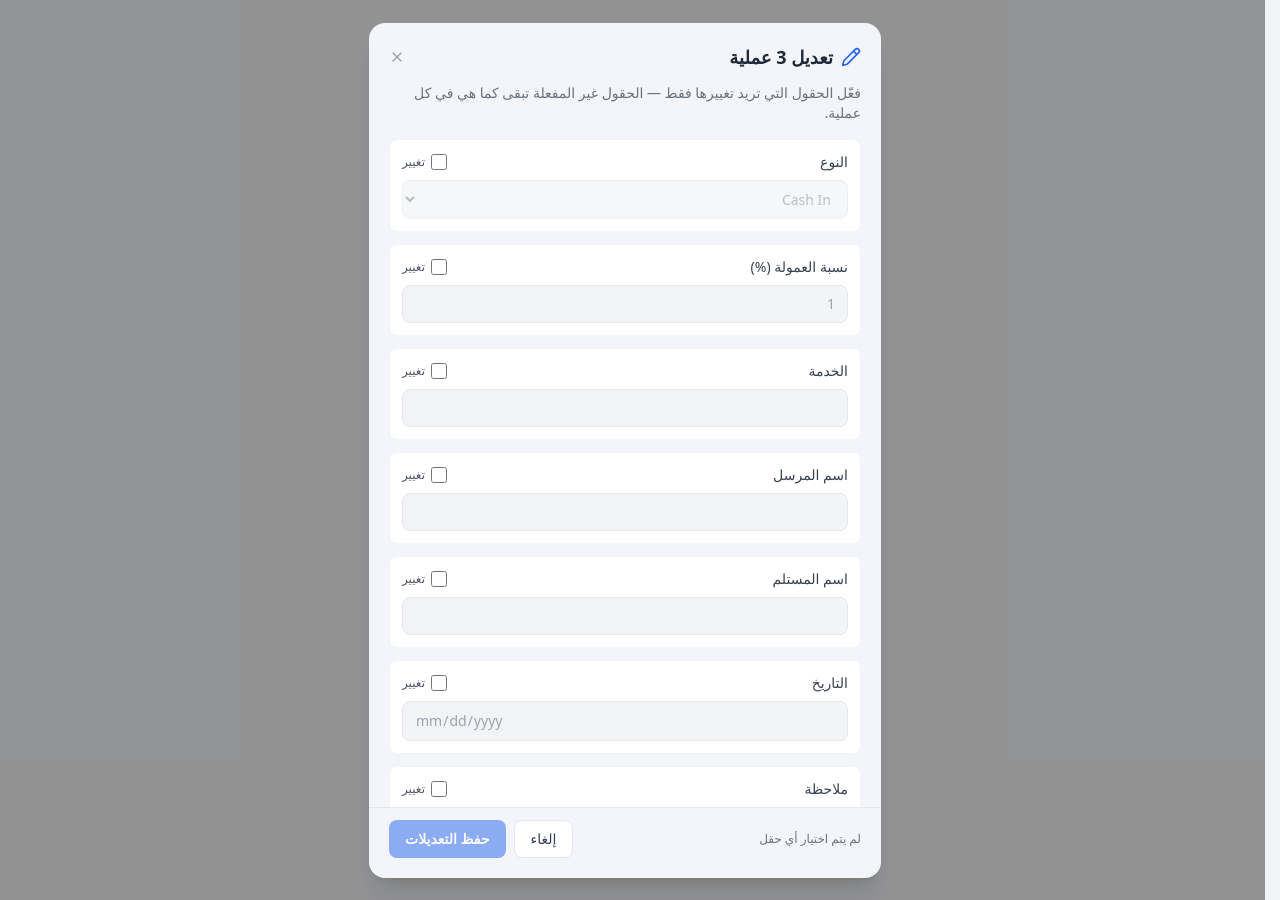
Scenario: BulkEditModal › enables a field only when its change box is ticked
The width and height of the screenshot is (1280, 900).
Click the checkbox labelled "تغيير" in the row of "الخدمة": click(439, 370) [431,362,447,378]
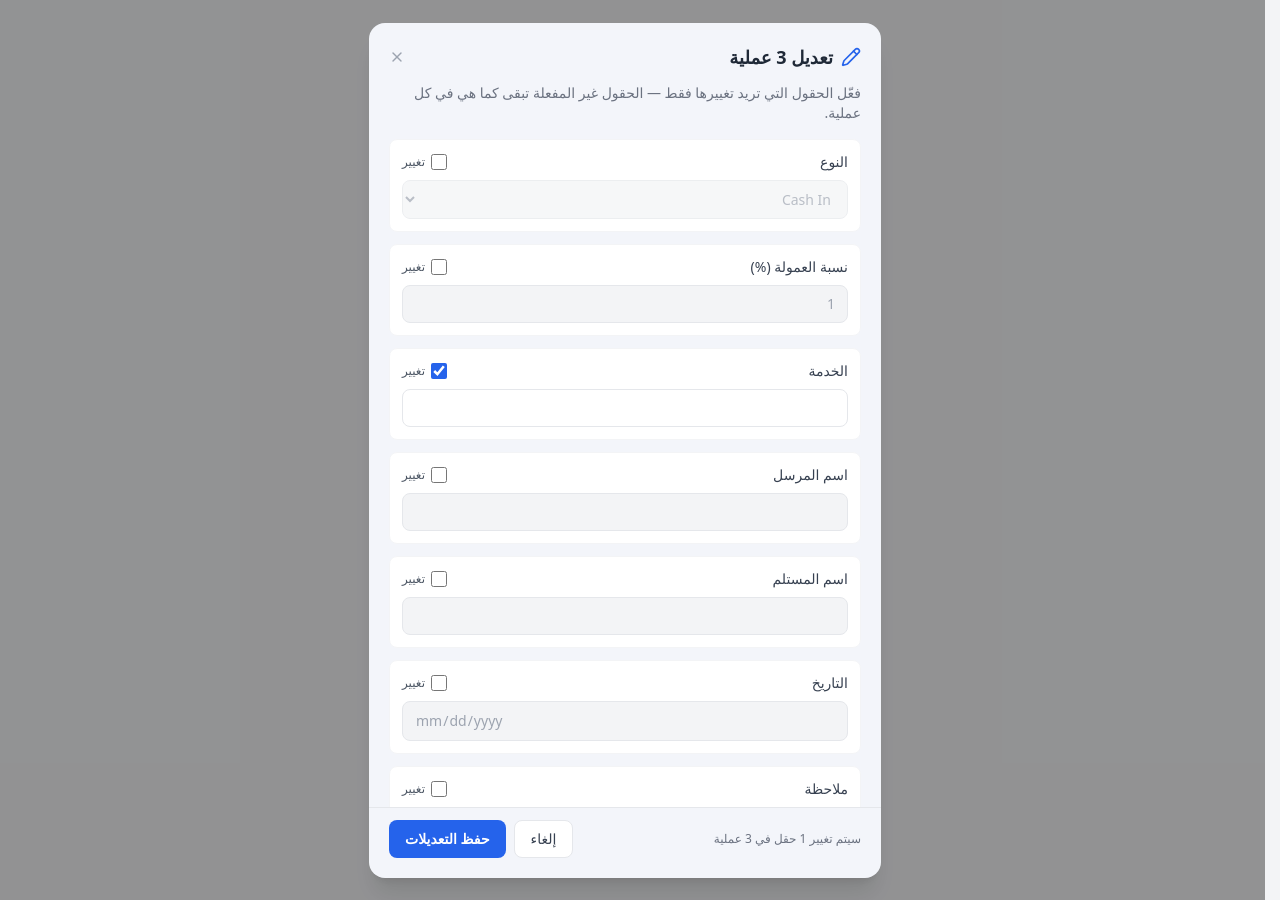
Expected: the field labelled "الخدمة" is enabled, [402,388,848,426]
Expected: the text "سيتم تغيير 1 حقل في 3 عملية" is shown, [714,830,861,846]
